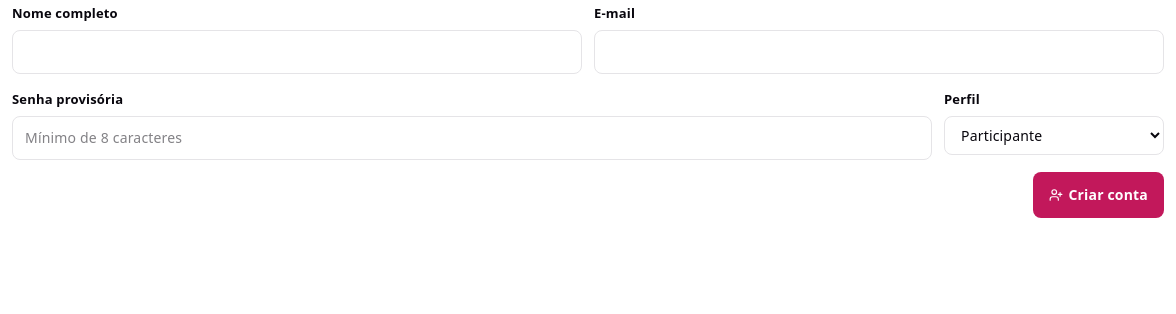
Test: UserForm › cria a conta com o perfil escolhido e limpa o formulário
Type "  Bia Souza " into the field labelled "Nome completo".
click(297, 52); type("  Bia Souza ")  # box x1=12 y1=30 x2=582 y2=74
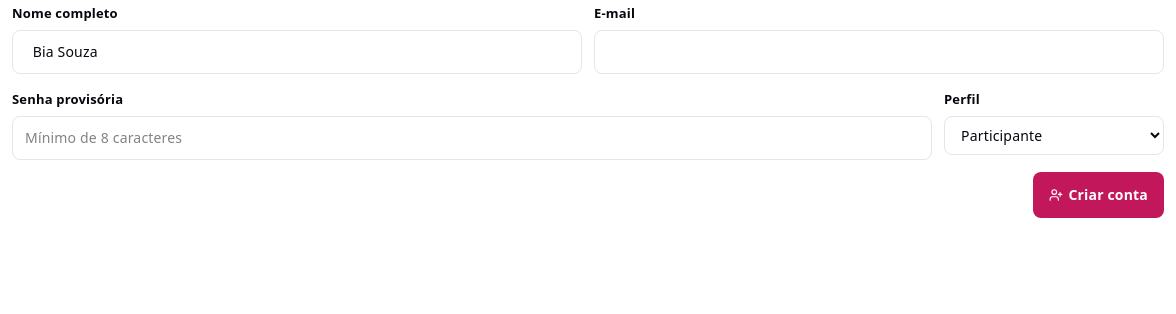
Type " bia@email.com " into the field labelled "E-mail".
click(879, 52); type(" bia@email.com ")  # box x1=594 y1=30 x2=1164 y2=74
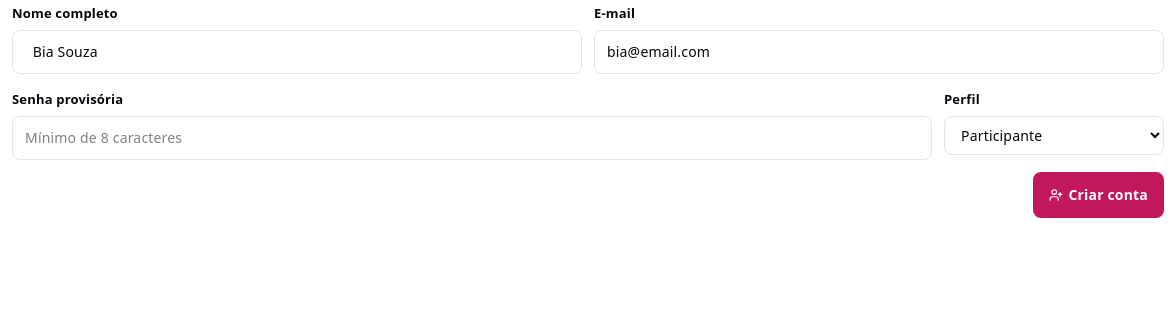
Type "12345678" into the field labelled "Senha provisória".
click(472, 138); type("12345678")  # box x1=12 y1=116 x2=932 y2=160
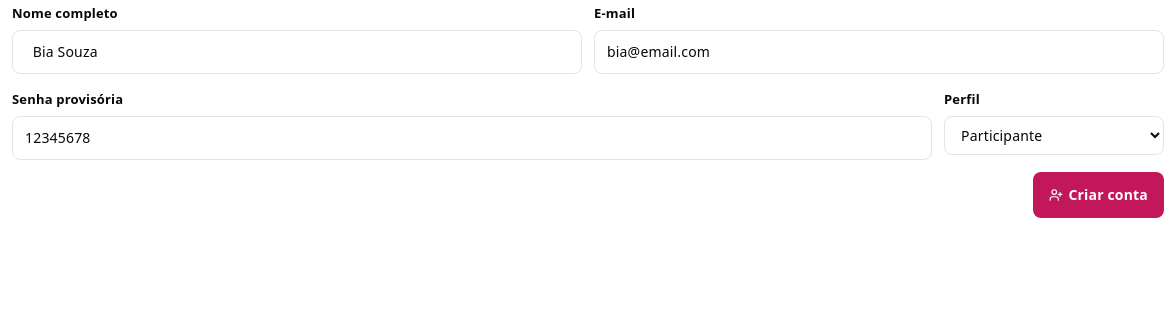
Select "Administrador" in the dropdown labelled "Perfil" at (1054, 136), box x1=944 y1=116 x2=1164 y2=155
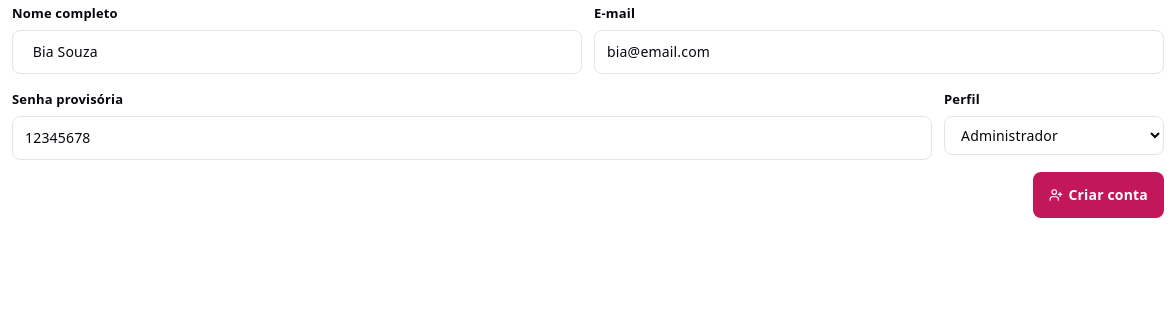
Click the button "Criar conta".
click(1098, 195)  # box x1=1033 y1=172 x2=1164 y2=218
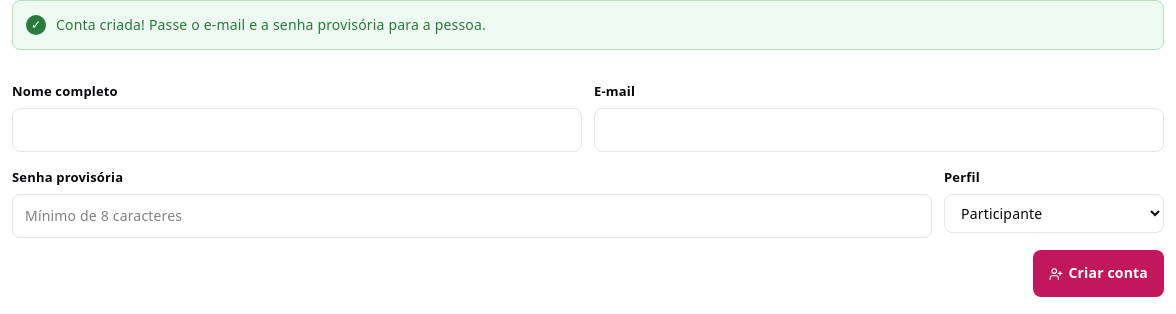
Now the message shows "Conta criada!", box x1=56 y1=15 x2=486 y2=34
Now the field labelled "Nome completo" is empty, box x1=12 y1=108 x2=582 y2=152
